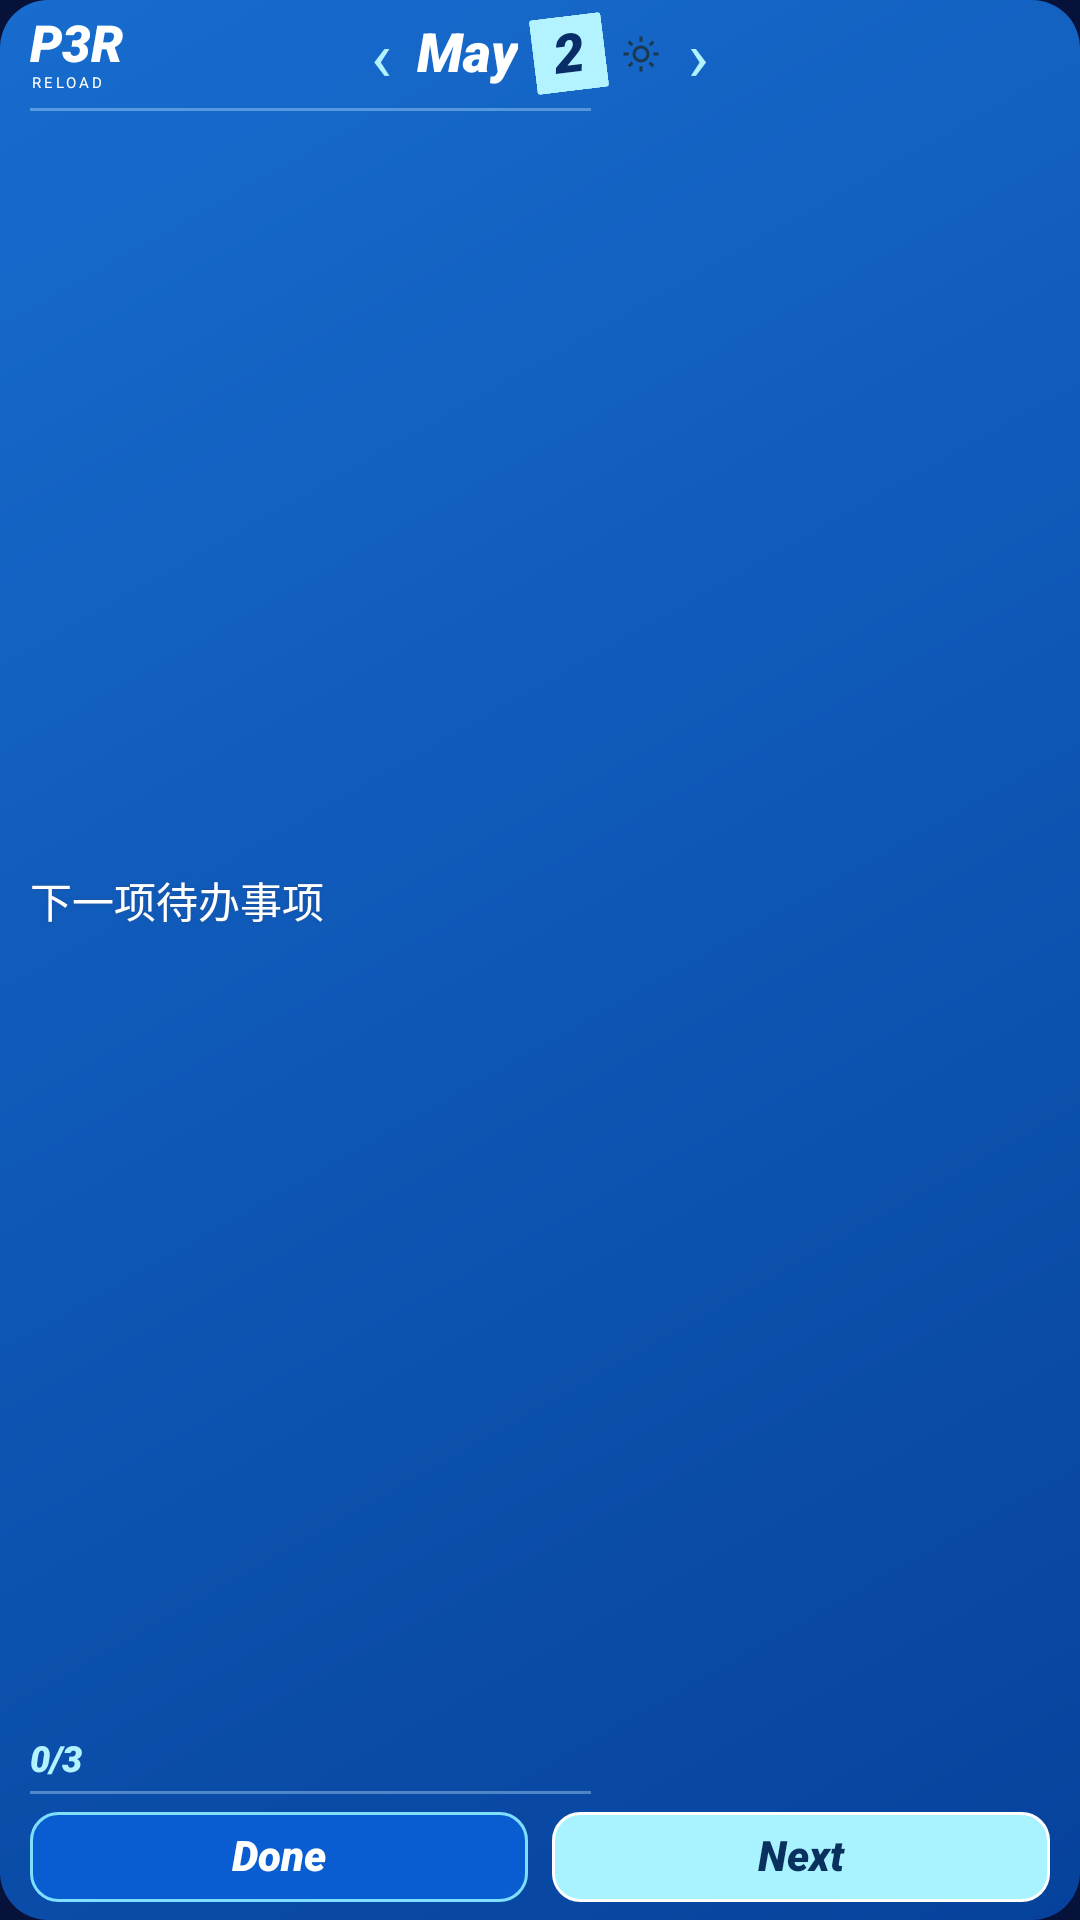

Screen size 1080×1920. Icon name, then its box in pixels as (x1, y1, x2, y2):
白天: (623, 36, 659, 72)
